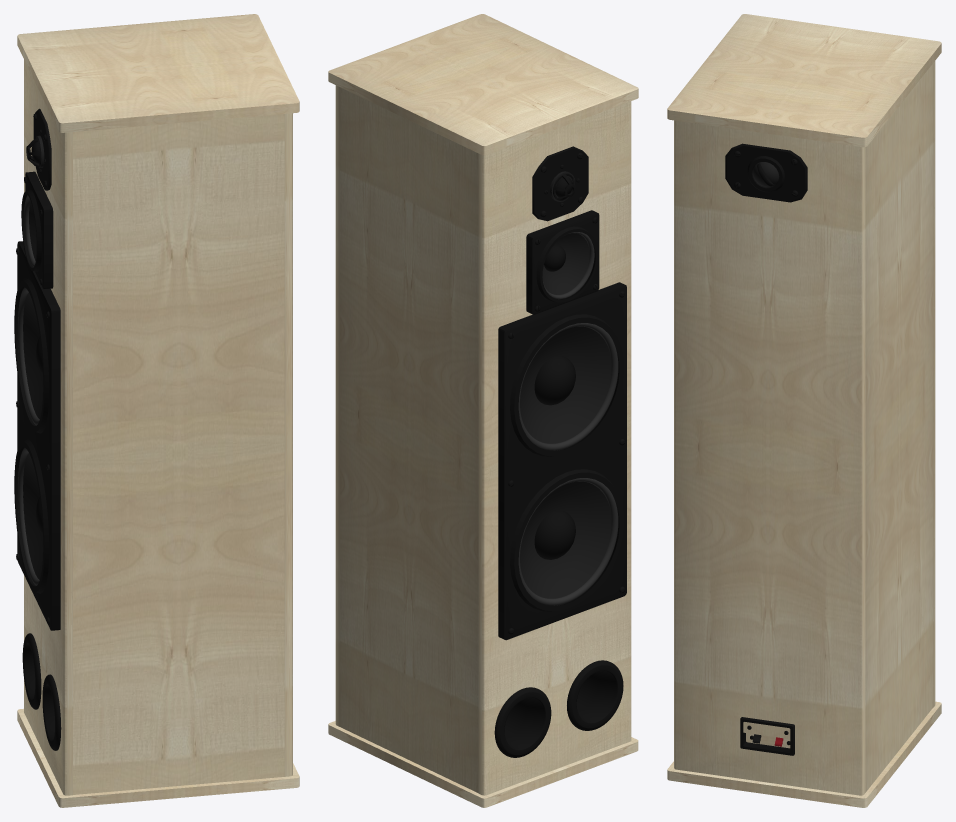
The model's file is Hifi_speaker_01.obj.
The picture shows the model from 3 angles, left to right: view 1: azimuth 30°, elevation 25°; view 2: azimuth 150°, elevation 25°; view 3: azimuth 270°, elevation 25°; orthographic projection. The views are drawn at different scales.
Parts seen in each view (by area): view 1: side_01, top, front, Box01, back, bottom, speaker_middle_02, speaker_middle_01, Box02, Tube01, Tube02, bottom_speaker_02 (+5 smaller); view 2: side_02, front, top, Box01, Tube01, Tube02, bottom, back, bottom_speaker_02, bottom_speaker_01, speaker_middle_01, speaker_middle_02 (+8 smaller); view 3: back, side_02, top, bottom, Box05, front, Tube05, trigger_01.
Part boxes in pixels (box(x1,y1,x2,y2)): side_01: box(73, 114, 284, 794); top: box(17, 14, 299, 132); front: box(24, 60, 72, 795); Box01: box(17, 241, 60, 630); back: box(284, 113, 292, 776); bottom: box(17, 708, 299, 807); speaker_middle_02: box(14, 279, 49, 433); speaker_middle_01: box(14, 439, 49, 593); Box02: box(25, 171, 53, 289); Tube01: box(23, 453, 43, 579); Tube02: box(23, 293, 43, 419); bottom_speaker_02: box(22, 633, 41, 709); side_02: box(340, 87, 478, 792); front: box(478, 101, 631, 795); top: box(328, 14, 638, 155); Box01: box(498, 282, 626, 640); Tube01: box(520, 481, 611, 598); Tube02: box(520, 326, 611, 443); bottom: box(328, 721, 638, 807); back: box(335, 85, 339, 726); bottom_speaker_02: box(494, 687, 551, 757); bottom_speaker_01: box(567, 660, 623, 730); speaker_middle_01: box(510, 469, 623, 611); speaker_middle_02: box(510, 314, 623, 456); back: box(674, 120, 865, 795); side_02: box(865, 64, 932, 792); top: box(667, 14, 941, 147); bottom: box(667, 701, 941, 807); Box05: box(725, 143, 807, 202); front: box(933, 61, 935, 707); Tube05: box(740, 717, 794, 755); trigger_01: box(747, 156, 784, 192).
Size of the model in its own units: 15.81 by 39.96 by 14.81.
